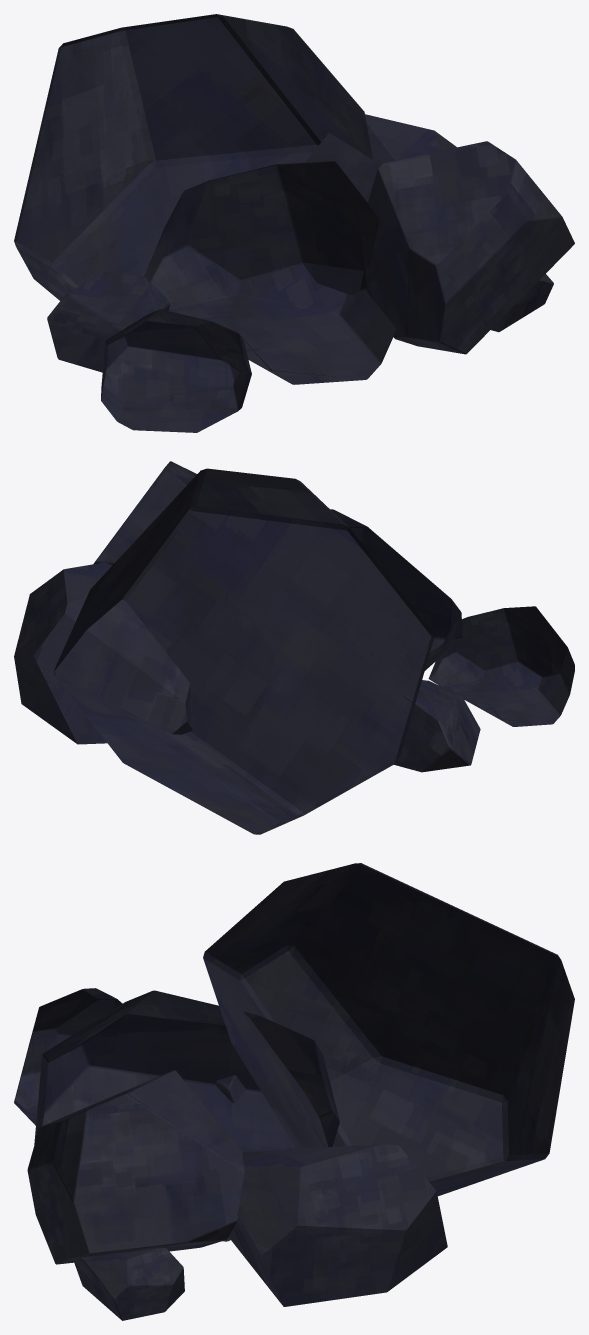
File: Pebble1.fbx
3 renders of one model, top to bottom at view 1: azimuth 30°, elevation 25°; view 2: azimuth 150°, elevation 25°; view 3: azimuth 270°, elevation 25°, orthographic. The views are drawn at different scales.
Parts seen in each view (by area): view 1: Cube.006, Cube.005, Cube.007, Cube.010, Cube.009, Cube.011, Cube.013; view 2: Cube.006, Cube.011, Cube.010, Cube.009, Cube.005, Cube.007; view 3: Cube.006, Cube.007, Cube.011, Cube.005, Cube.013, Cube.010.
Part boxes in pixels (x1,y1,x2,y2): Cube.006: (14,14,372,300); Cube.005: (144,161,396,384); Cube.007: (366,141,574,354); Cube.010: (101,309,251,432); Cube.009: (47,272,170,372); Cube.011: (303,114,456,295); Cube.013: (491,274,553,332); Cube.006: (53,468,433,834); Cube.011: (14,562,192,744); Cube.010: (428,606,574,726); Cube.009: (394,680,480,772); Cube.005: (224,509,462,670); Cube.007: (93,461,196,564); Cube.006: (203,863,574,1196); Cube.007: (27,1070,244,1264); Cube.011: (229,1144,447,1306); Cube.005: (34,990,339,1241); Cube.013: (74,1248,184,1320); Cube.010: (14,988,122,1125).
Bounding box in the file's own units: 489 × 304 × 458.
